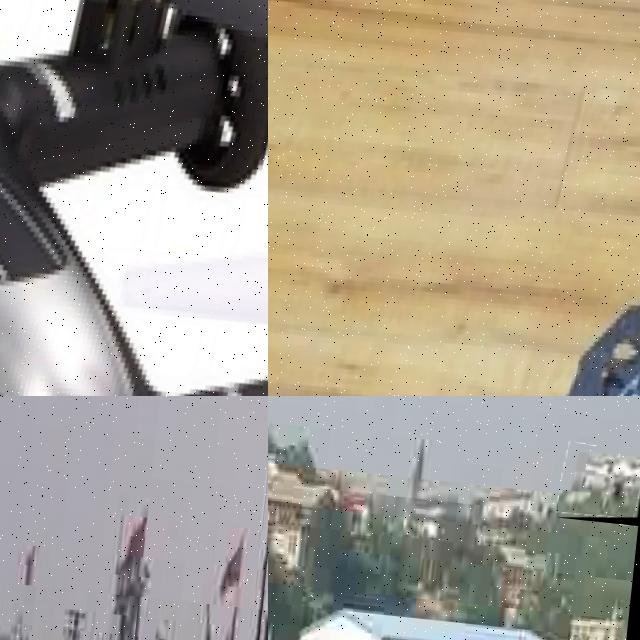drone: (268, 0, 640, 396), (0, 0, 268, 396), (556, 442, 640, 525)
